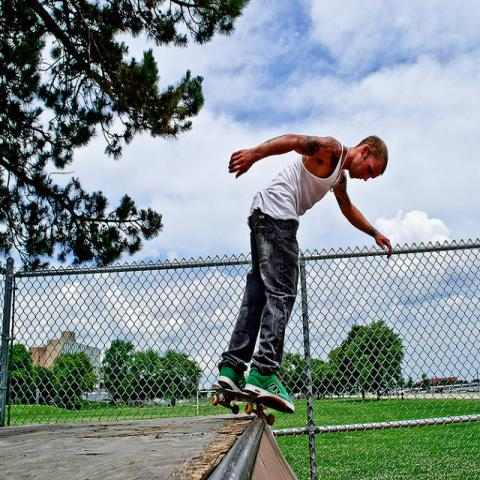car: (441, 387, 455, 393), (404, 388, 410, 394)
